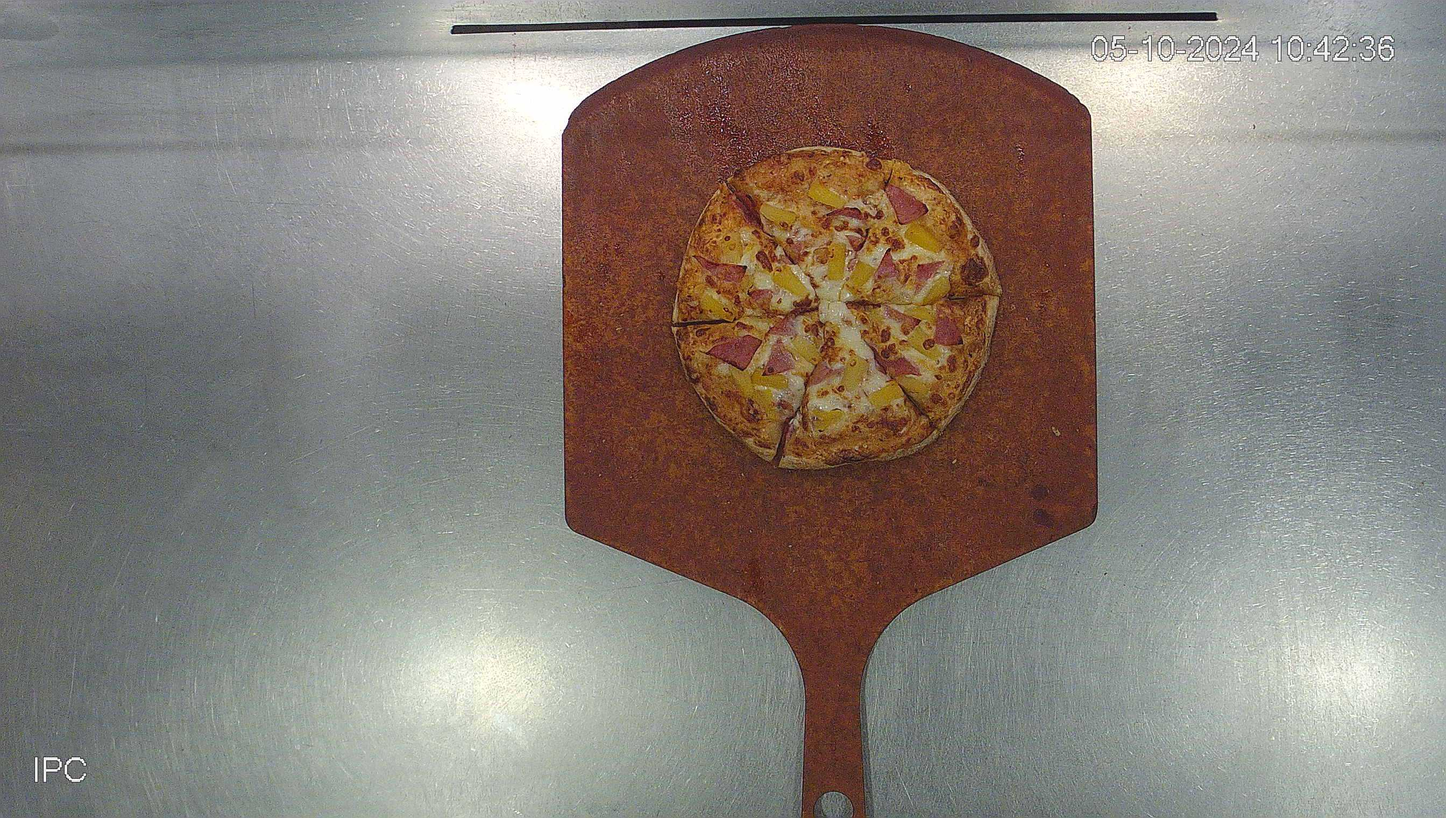manager_choice: (670, 146, 1003, 470)
